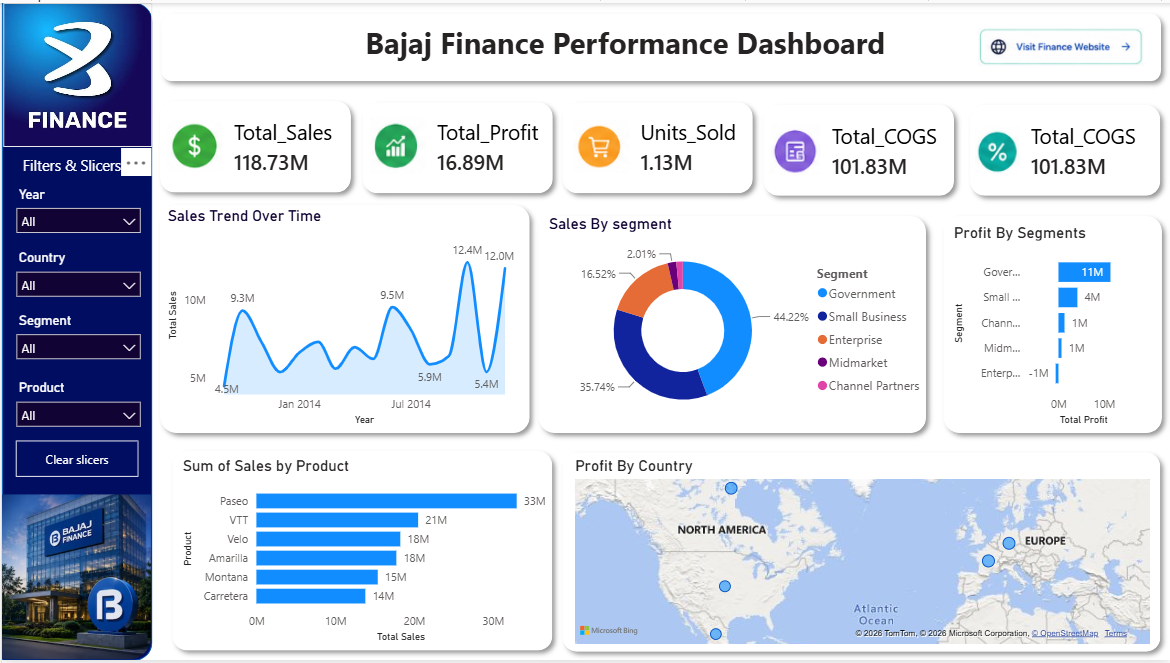

The page's visual inventory and layout, read from the dashboard file:
{"tool":"powerbi","page":{"name":"Q9. Dashboard","canvas":[1280,720],"ordinal":0},"visuals":[{"type":"group","id":"g1","title":"Group 1","box":[0,0,1279.8,720.4],"z":0},{"type":"shape","box":[164.2,1.4,1115.6,94.7],"z":0,"group":"g1"},{"type":"shape","box":[163.6,97.4,229.4,120.7],"z":0,"group":"g4"},{"type":"shape","box":[384.5,98.8,228.8,120.1],"z":0,"group":"g5"},{"type":"group","id":"g2","title":"Group 6","box":[812.8,101.7,245.6,120.1],"z":0,"group":"g6"},{"type":"group","id":"g3","title":"Group 9","box":[5.5,196.2,156.4,271.7],"z":0,"group":"g10"},{"type":"shape","box":[163.3,211.1,425.4,270.3],"z":0,"group":"g9"},{"type":"textbox","box":[393,16.4,612.1,61.6],"z":1000,"group":"g1"},{"type":"image","box":[1069,23.3,181.1,49.4],"z":1000},{"type":"group","id":"g4","title":"Group 3","box":[152.3,97.4,242.9,120.7],"z":1000,"group":"g6"},{"type":"cardVisual","fields":{"Data":["_Measures.Total_Profit"]},"box":[373.6,104.5,249.7,105.7],"z":1000,"group":"g5"},{"type":"lineChart","title":"Sales Trend Over Time","fields":{"Category":["financials.Date.Variation.Date Hierarchy.Year","financials.Date.Variation.Date Hierarchy.Month"],"Y":["Sum(financials. Sales)"]},"box":[176.4,223.9,401.6,244.7],"z":1000,"group":"g9"},{"type":"cardVisual","fields":{"Data":["_Measures.Total_Sales"]},"box":[152.3,102.8,242.9,108.4],"z":1002,"group":"g4"},{"type":"shape","box":[0,0,164.7,720.4],"z":2000,"group":"g1"},{"type":"image","box":[1.4,0,162.9,157.5],"z":2000},{"type":"group","id":"g5","title":"Group 4","box":[373.6,98.8,249.7,120.1],"z":2000,"group":"g6"},{"type":"shape","box":[578.7,223.3,444.6,258],"z":2000,"group":"g9"},{"type":"group","id":"g6","title":"Group 8","box":[152.3,97.4,1126.9,124.9],"z":3000},{"type":"group","id":"g7","title":"Group 5","box":[596.7,98.8,241.5,120.1],"z":3000,"group":"g6"},{"type":"shape","box":[1050.4,102.2,228.8,120.1],"z":3000,"group":"g8"},{"type":"donutChart","title":"Sales By segment","fields":{"Category":["financials.Segment"],"Y":["Sum(financials. Sales)"]},"box":[595.1,231.5,425.4,236],"z":3000,"group":"g9"},{"type":"shape","box":[603.1,98.8,228.8,120.1],"z":4000,"group":"g7"},{"type":"group","id":"g8","title":"Group 7","box":[1037,102.2,242.1,120.1],"z":4000,"group":"g6"},{"type":"cardVisual","fields":{"Data":["_Measures.Total_COGS"]},"box":[1037,107.4,241.5,108.4],"z":4000,"group":"g8"},{"type":"shape","box":[1020.9,223.7,259.3,258],"z":4000},{"type":"group","id":"g9","title":"Group 10","box":[163.3,211.1,860,270.3],"z":5000},{"type":"shape","box":[825.6,101.7,228.8,120.1],"z":5501,"group":"g2"},{"type":"cardVisual","fields":{"Data":["_Measures.Units_Sold"]},"box":[596.7,103.1,241.5,108.4],"z":6000,"group":"g7"},{"type":"barChart","title":"Profit By Segments","fields":{"Category":["financials.Segment"],"Y":["Sum(financials.Profit)"]},"box":[1037.4,241.5,225,226.4],"z":6000},{"type":"cardVisual","fields":{"Data":["_Measures.Total_COGS"]},"box":[812.8,107.2,245.6,108.4],"z":6001,"group":"g2"},{"type":"shape","box":[177,480.6,436.4,238.8],"z":7000},{"type":"barChart","fields":{"Y":["Sum(financials. Sales)"],"Category":["financials.Product"]},"box":[193.5,496.7,419.9,208.6],"z":8000},{"type":"shape","box":[603.8,481.6,675.1,238.8],"z":9000},{"type":"map","title":"Profit By Country","fields":{"Category":["financials.Country"],"Size":["Avg(financials.Profit)"]},"box":[623,496.7,639.5,209.9],"z":10000},{"type":"textbox","box":[17.8,161.9,134.5,41.2],"z":11000},{"type":"slicer","fields":{"Values":["financials.Date.Variation.Date Hierarchy.Year"]},"box":[5.5,196.2,156.4,59],"z":11000,"group":"g3"},{"type":"group","id":"g10","title":"Group 2","box":[5.5,196.2,156.4,271.7],"z":12000,"group":"g11"},{"type":"slicer","fields":{"Values":["financials.Country"]},"box":[5.5,266.2,156.4,59],"z":12000,"group":"g3"},{"type":"image","box":[0,538.1,162.9,180.7],"z":12000},{"type":"group","id":"g11","title":"Group 11","box":[5.5,196.2,156.4,323.8],"z":13000},{"type":"slicer","fields":{"Values":["financials.Segment"]},"box":[5.5,334.8,156.4,59],"z":13000,"group":"g3"},{"type":"actionButton","box":[15.1,480.2,134.5,39.8],"z":13001,"group":"g11"},{"type":"slicer","fields":{"Values":["financials.Product"]},"box":[5.5,408.9,156.4,59],"z":14000,"group":"g3"}]}

Visuals, with their boxes in screenshot pixels (x1, y1, x2, y2), scaled from the page's 1280x720 canvas onto the 1170x663 screenshot:
"Group 1" group: (left=0, top=0, right=1169, bottom=662)
shape: (left=150, top=1, right=1169, bottom=88)
shape: (left=150, top=90, right=359, bottom=201)
shape: (left=351, top=91, right=561, bottom=202)
"Group 6" group: (left=743, top=94, right=967, bottom=204)
"Group 9" group: (left=5, top=181, right=148, bottom=431)
shape: (left=149, top=194, right=538, bottom=443)
textbox: (left=359, top=15, right=919, bottom=72)
image: (left=977, top=21, right=1143, bottom=67)
"Group 3" group: (left=139, top=90, right=361, bottom=201)
cardVisual - _Measures.Total_Profit: (left=341, top=96, right=570, bottom=194)
"Sales Trend Over Time" lineChart: (left=161, top=206, right=528, bottom=432)
cardVisual - _Measures.Total_Sales: (left=139, top=95, right=361, bottom=194)
shape: (left=0, top=0, right=151, bottom=662)
image: (left=1, top=0, right=150, bottom=145)
"Group 4" group: (left=341, top=91, right=570, bottom=202)
shape: (left=529, top=206, right=935, bottom=443)
"Group 8" group: (left=139, top=90, right=1169, bottom=205)
"Group 5" group: (left=545, top=91, right=766, bottom=202)
shape: (left=960, top=94, right=1169, bottom=205)
"Sales By segment" donutChart: (left=544, top=213, right=933, bottom=430)
shape: (left=551, top=91, right=760, bottom=202)
"Group 7" group: (left=948, top=94, right=1169, bottom=205)
cardVisual - _Measures.Total_COGS: (left=948, top=99, right=1169, bottom=199)
shape: (left=933, top=206, right=1169, bottom=444)
"Group 10" group: (left=149, top=194, right=935, bottom=443)
shape: (left=755, top=94, right=964, bottom=204)
cardVisual - _Measures.Units_Sold: (left=545, top=95, right=766, bottom=195)
"Profit By Segments" barChart: (left=948, top=222, right=1154, bottom=431)
cardVisual - _Measures.Total_COGS: (left=743, top=99, right=967, bottom=199)
shape: (left=162, top=443, right=561, bottom=662)
barChart - Sum(financials. Sales) x financials.Product: (left=177, top=457, right=561, bottom=649)
shape: (left=552, top=443, right=1169, bottom=662)
"Profit By Country" map: (left=569, top=457, right=1154, bottom=651)
textbox: (left=16, top=149, right=139, bottom=187)
slicer - financials.Date.Variation.Date Hierarchy.Year: (left=5, top=181, right=148, bottom=235)
"Group 2" group: (left=5, top=181, right=148, bottom=431)
slicer - financials.Country: (left=5, top=245, right=148, bottom=299)
image: (left=0, top=496, right=149, bottom=662)
"Group 11" group: (left=5, top=181, right=148, bottom=479)
slicer - financials.Segment: (left=5, top=308, right=148, bottom=363)
actionButton: (left=14, top=442, right=137, bottom=479)
slicer - financials.Product: (left=5, top=377, right=148, bottom=431)
